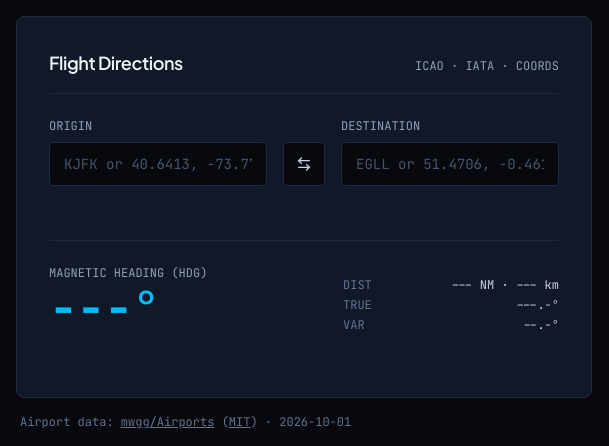
Test: App › invalid location input › removes the error style when an error is edited straight into valid input
The width and height of the screenshot is (609, 446).
Step 1. Type "48.2, 14x" into the field labelled "ORIGIN" → (158, 164), box [49,142,267,186]
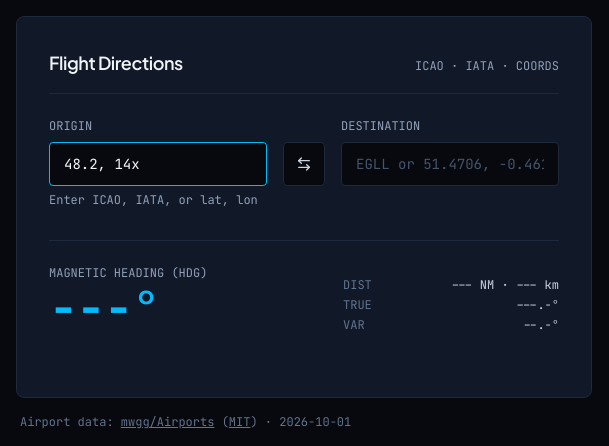
Step 2. Press Tab
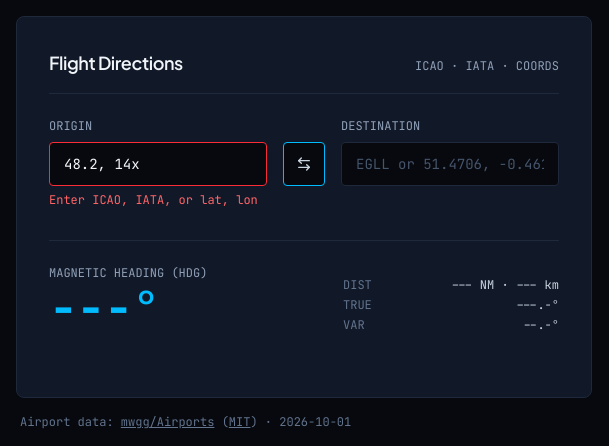
Step 3. Click the field labelled "ORIGIN" → (158, 164), box [49,142,267,186]
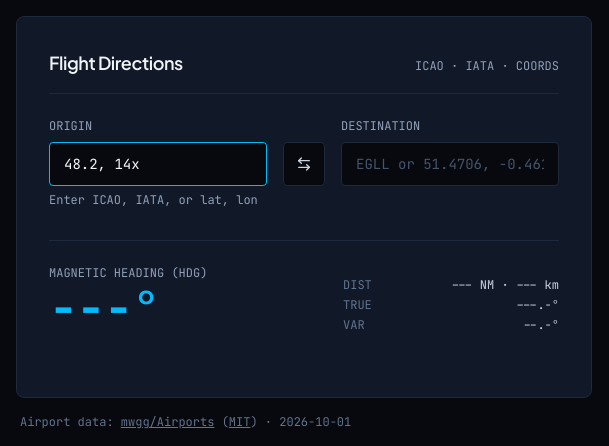
Step 4. Press Backspace
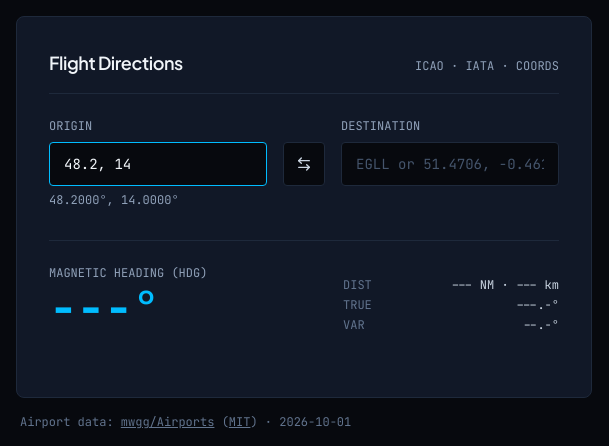
expect the field labelled "ORIGIN" does not have attribute aria-invalid="true": met, box [49,142,267,186]
